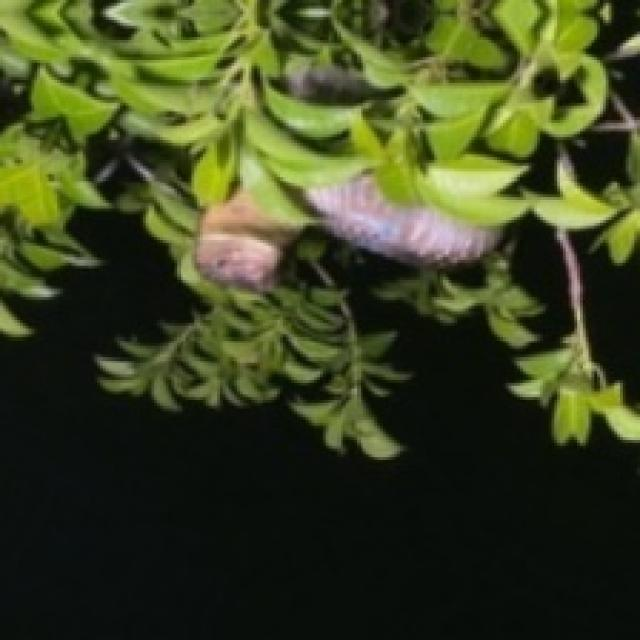king cobra: (306, 174, 497, 263), (194, 191, 297, 289)
